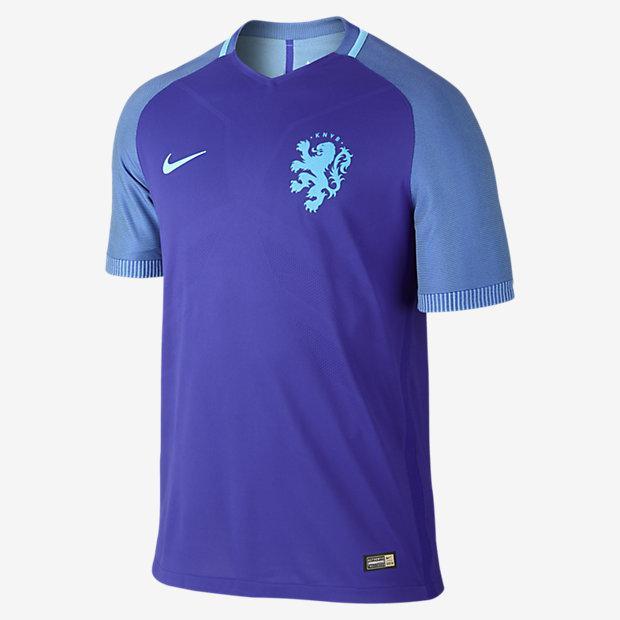teeshirt: (99, 3, 565, 592)
